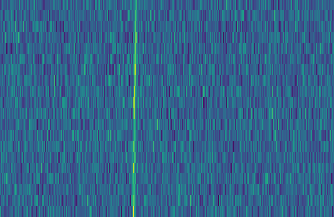signal: (128, 0, 140, 217)
